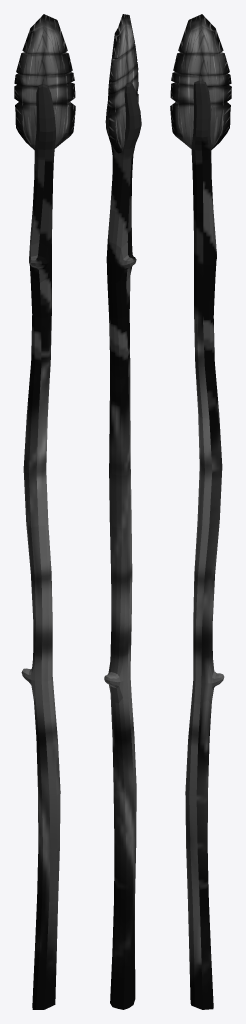
Rendered from Unityspear_V1.fbx.
The picture shows the model from 3 angles, left to right: view 1: azimuth 90°, elevation 25°; view 2: azimuth 150°, elevation 25°; view 3: azimuth 270°, elevation 25°; orthographic projection.
Parts seen in each view (by area): view 1: Cube; view 2: Cube; view 3: Cube.
Boxes of the visible parts, x1=… form: Cube: x1=14, y1=14, x2=75, y2=1009; Cube: x1=104, y1=14, x2=141, y2=1009; Cube: x1=170, y1=14, x2=231, y2=1009.
Size of the model in its own units: 14.44 by 437 by 24.62.
